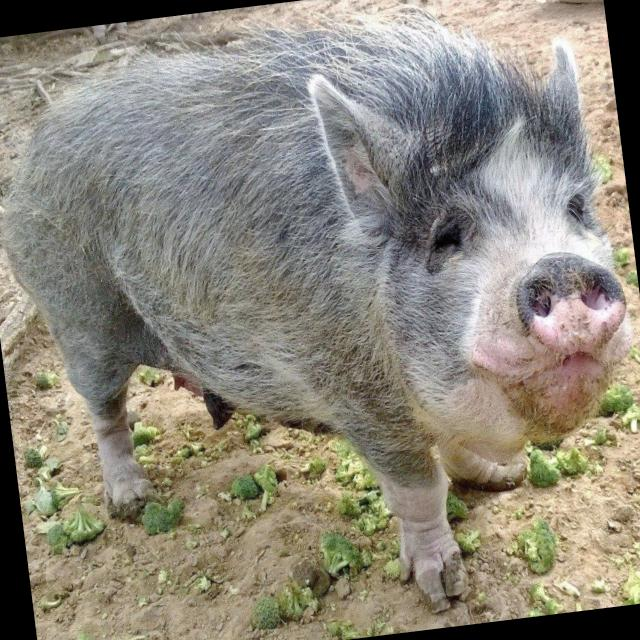pig: (0, 16, 635, 612)
